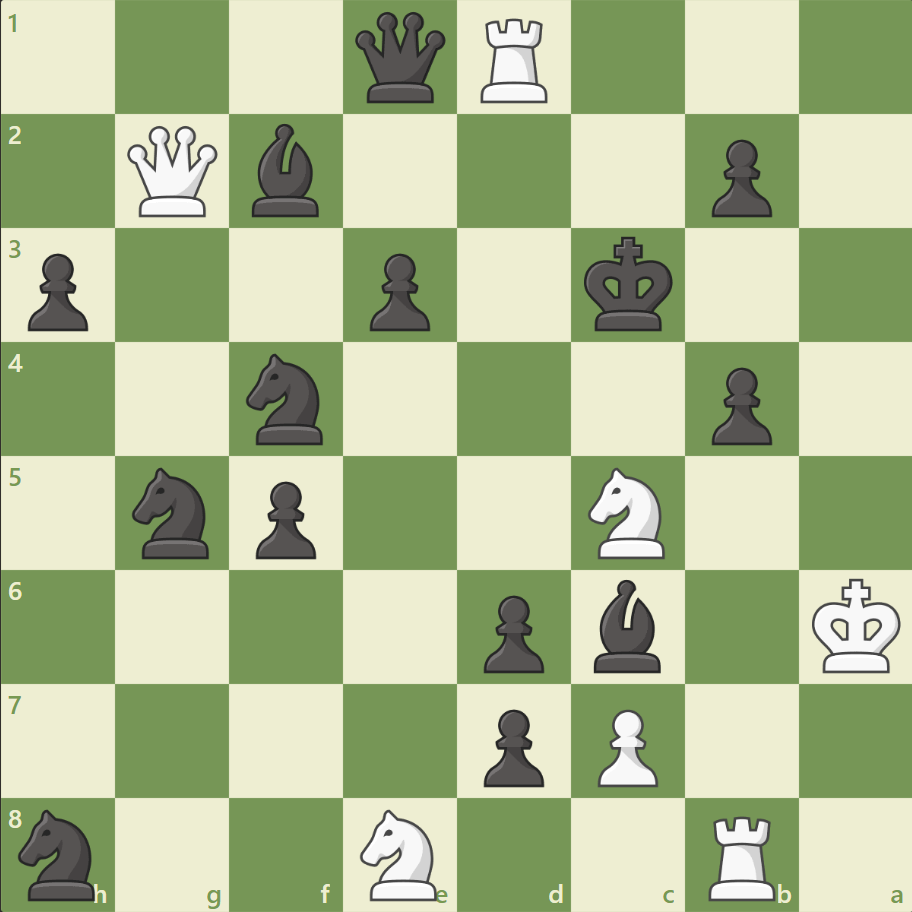K: (806, 571, 906, 679)
N: (351, 802, 449, 904), (579, 461, 676, 564)
P: (588, 700, 662, 791)
Q: (124, 122, 223, 222)
R: (700, 806, 783, 904), (473, 12, 556, 109)
b: (585, 574, 669, 676), (244, 120, 328, 222)
k: (579, 231, 679, 339)
n: (124, 461, 222, 564), (11, 802, 108, 904), (238, 348, 335, 450)
p: (474, 700, 549, 791), (474, 586, 549, 677), (247, 473, 322, 564), (701, 359, 776, 450), (20, 246, 95, 337), (701, 132, 776, 223), (361, 246, 435, 337)
q: (351, 9, 450, 108)
